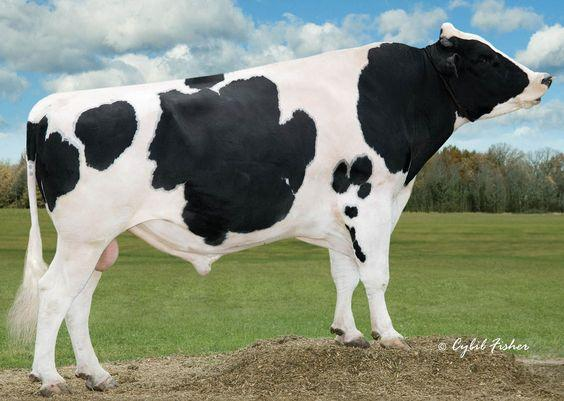cow: (31, 20, 537, 350)
